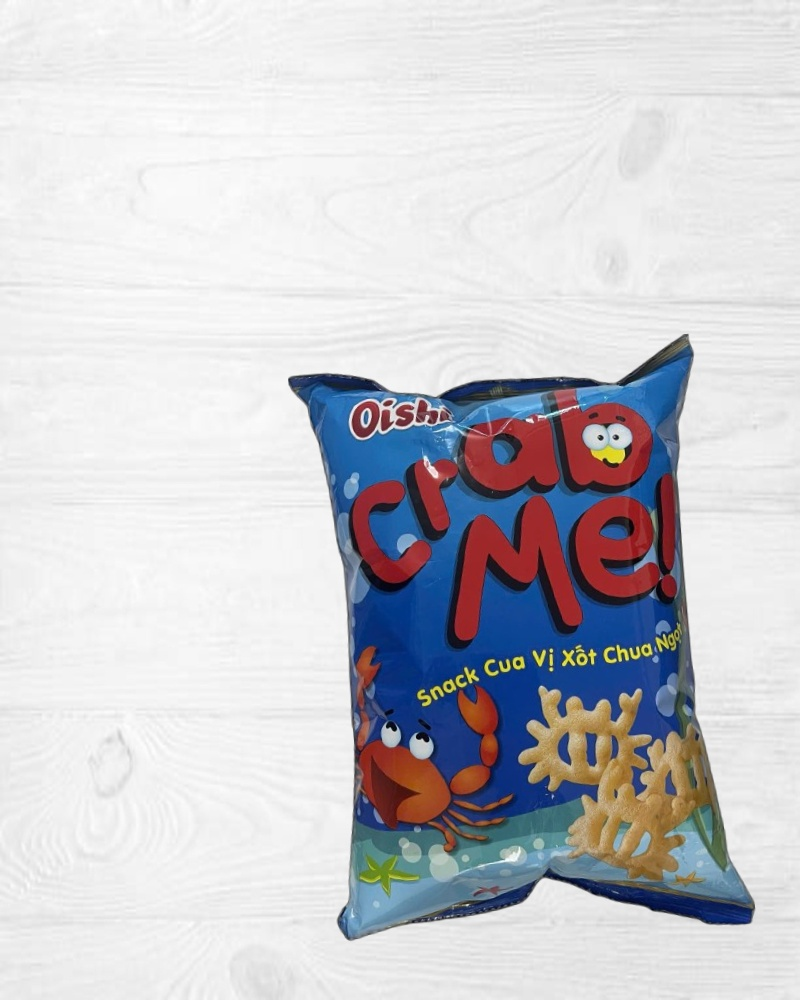Snack cua: (288, 333, 756, 954)
